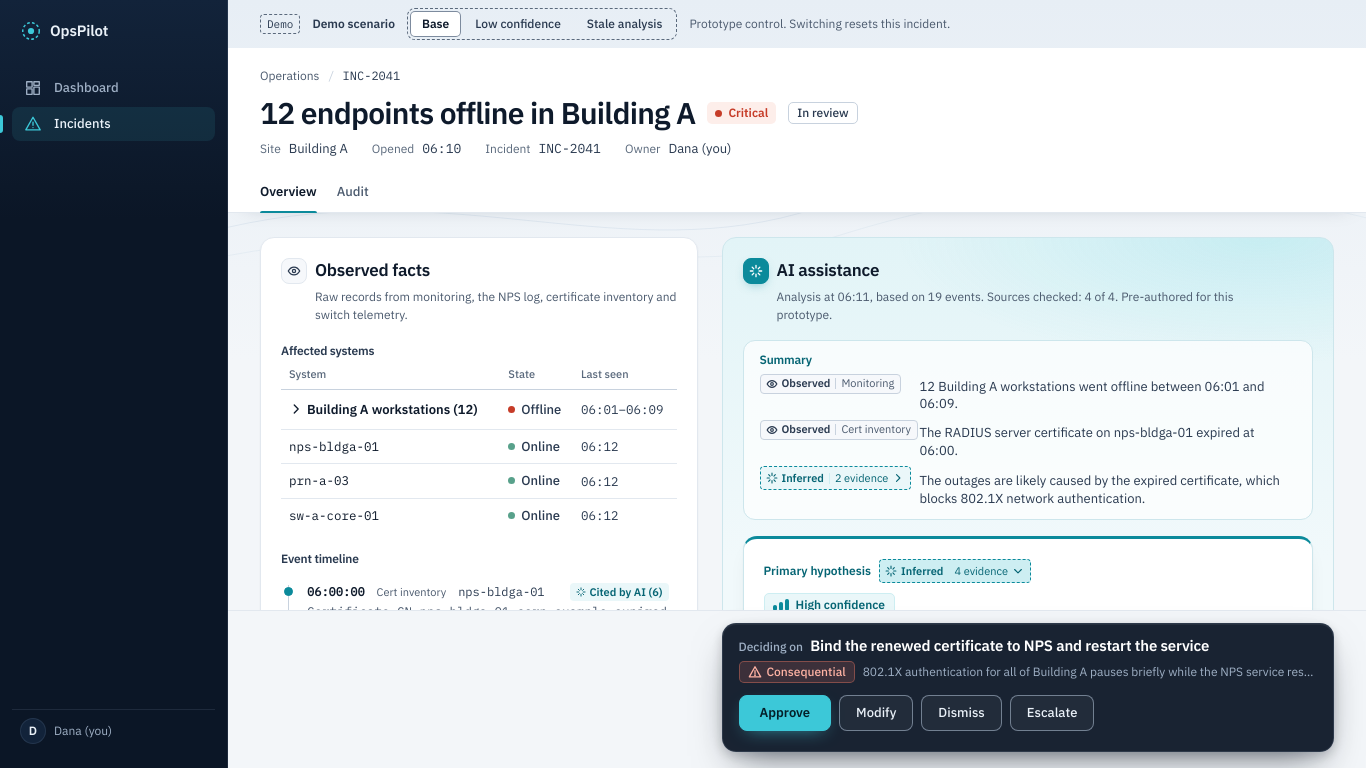
Test: Low confidence: analysis and facts › shows two Low hypotheses, the alternative labelled as such, and the Unknown with its reason
What coordinates should you click on to do the following:
click the button "Low confidence"
I would click on:
 (518, 24)
Its box is [463,11,573,37].
(page scrolled)
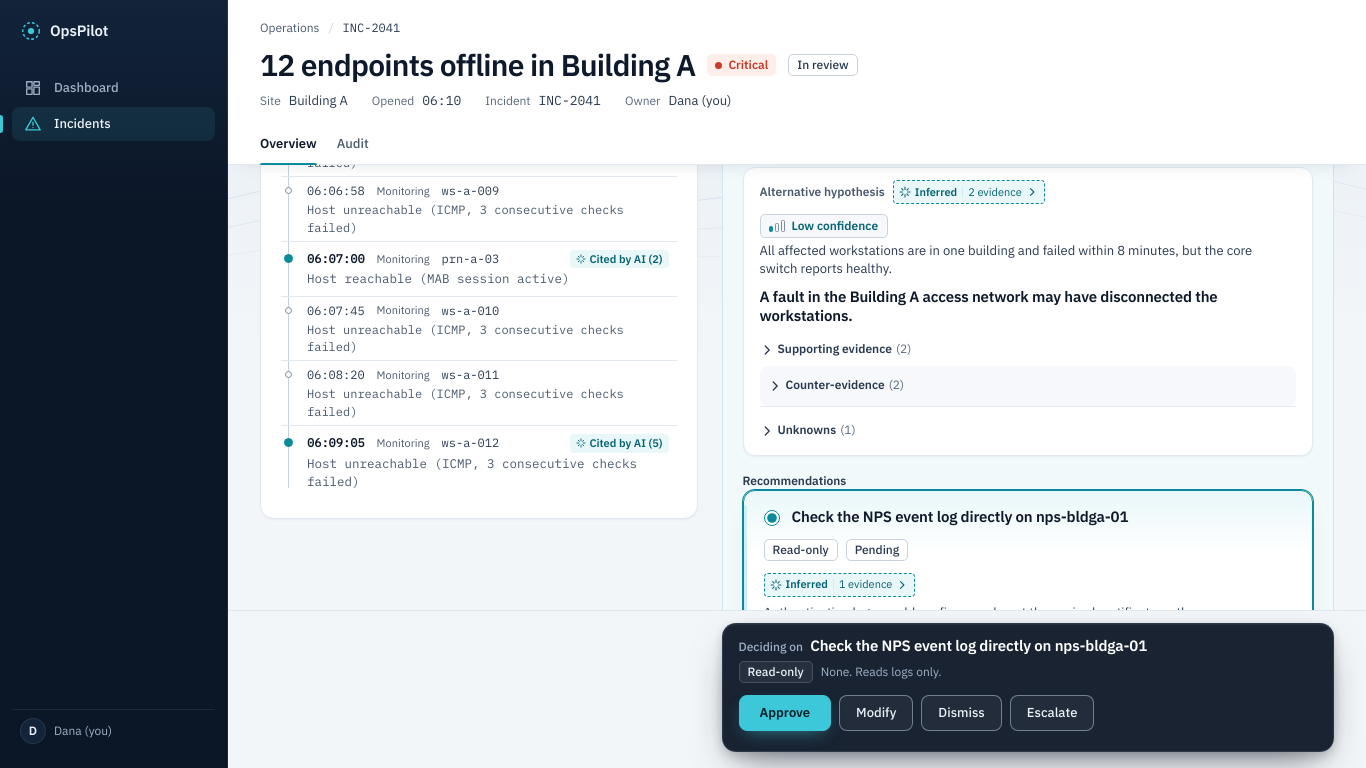
Now the text "Alternative hypothesis" is shown, box [760,183,885,201]
Now the element named "Confidence: Low" is shown, box [760,214,1296,277]
Now the text "Whether the workstations are failing authentication" is shown, box [849,64,1155,81]
What coordinates should you click on to do the following:
click the button "Counter-evidence (2)"
I would click on:
 (838, 386)
Its box is [766,374,910,398].
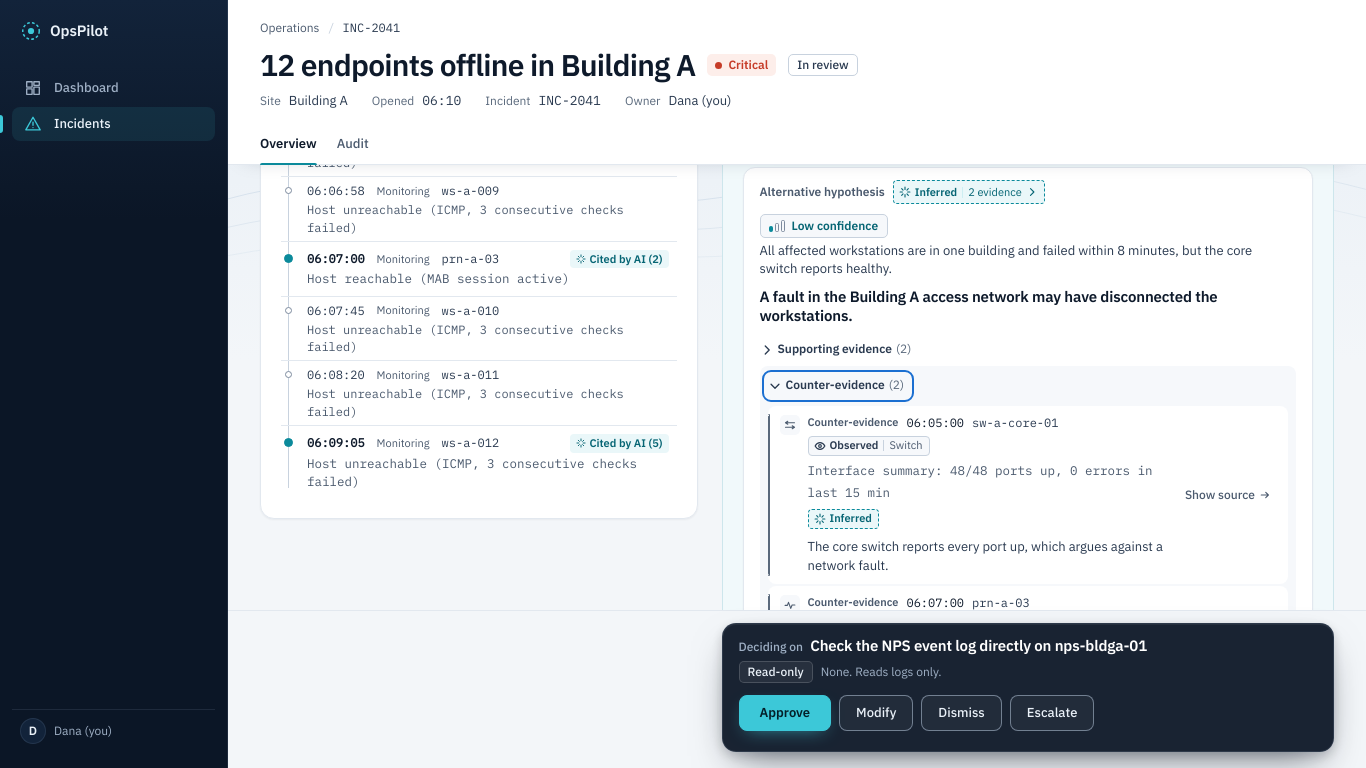
Now the text "Interface summary: 48/48 ports up, 0 errors in last 15 min" is shown, box [808,462,1152,500]
